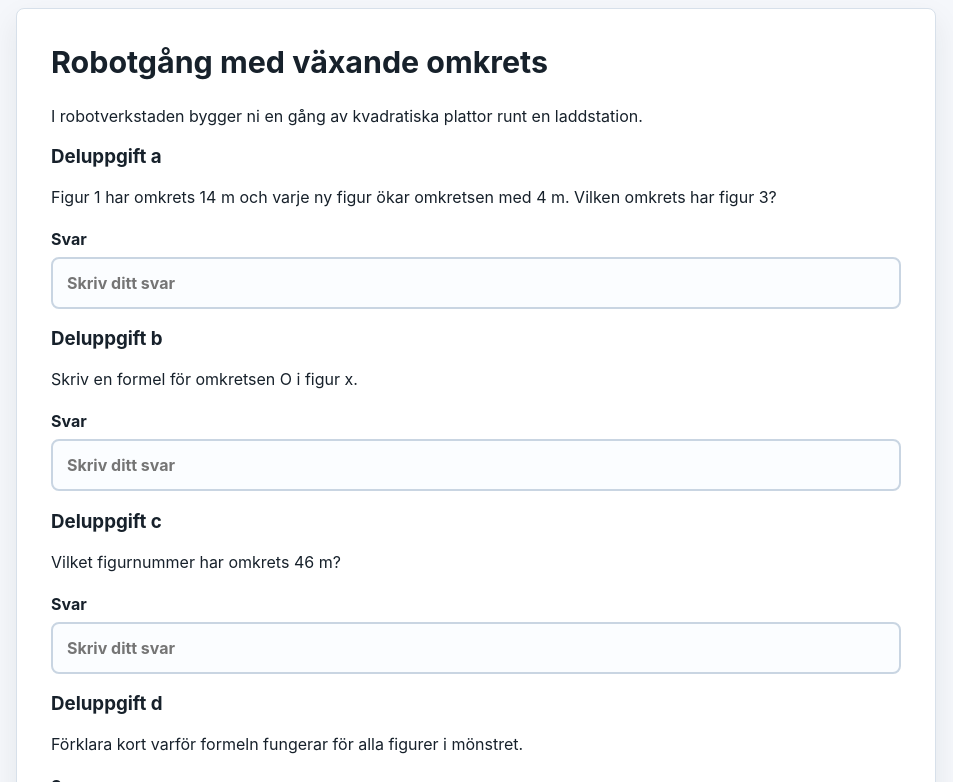
Scenario: real exam mode › lets user answer subquestions, submit, and view rubric/explanations
In the 1st field labelled "Svar": (476, 283) [51, 257, 901, 309], type "test-svar"
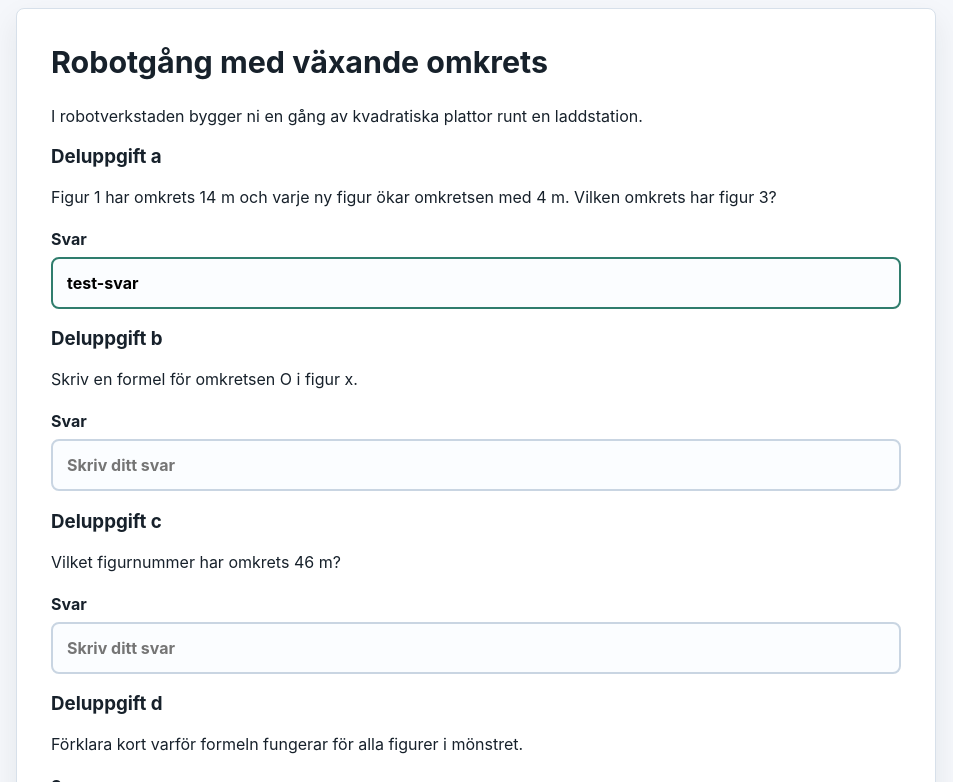
In the 2nd field labelled "Svar": (476, 465) [51, 439, 901, 491], type "test-svar"
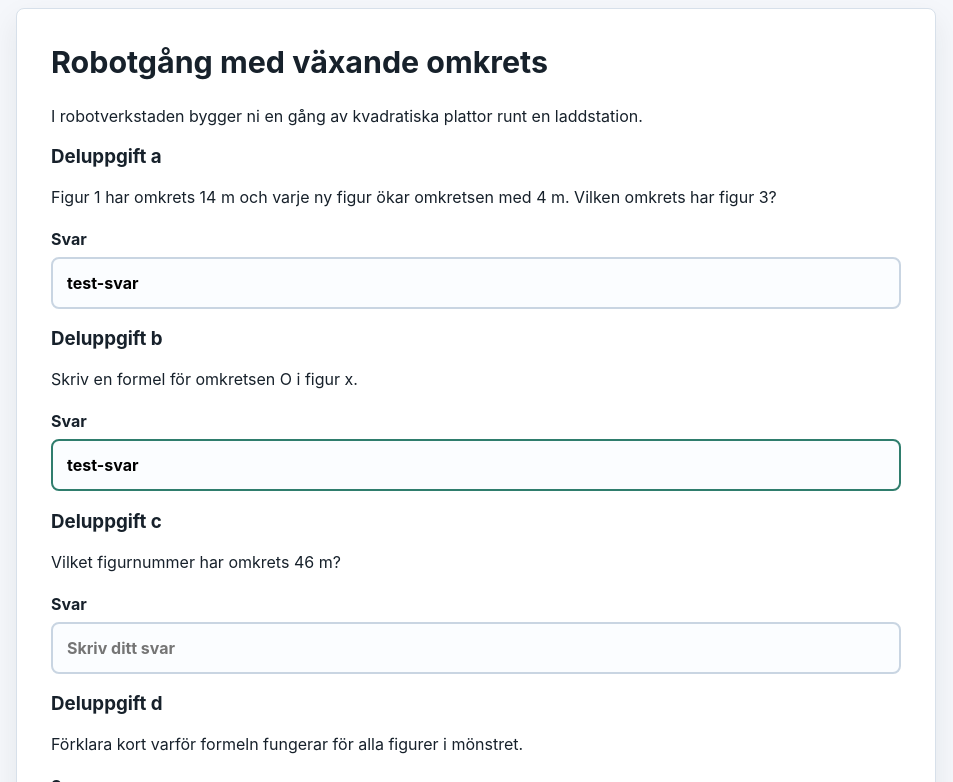
In the field labelled "Svar" below "Vilket figurnummer har omkrets 46 m?": (476, 648) [51, 622, 901, 674], type "test-svar"
(page scrolled)
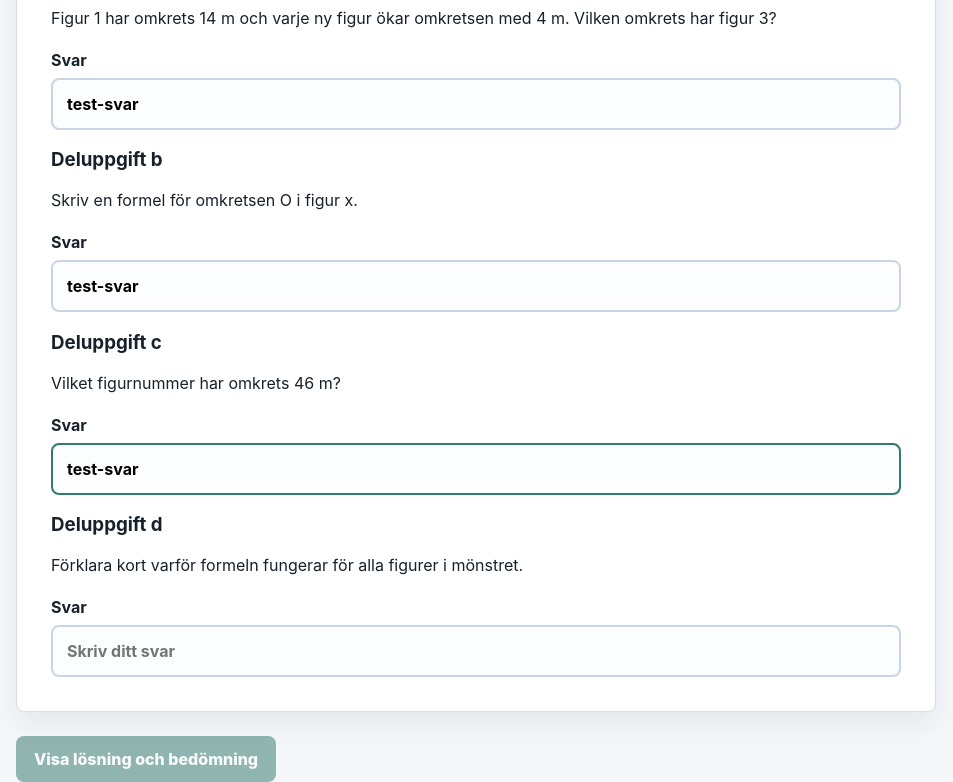
In the 4th field labelled "Svar": (476, 651) [51, 625, 901, 677], type "test-svar"
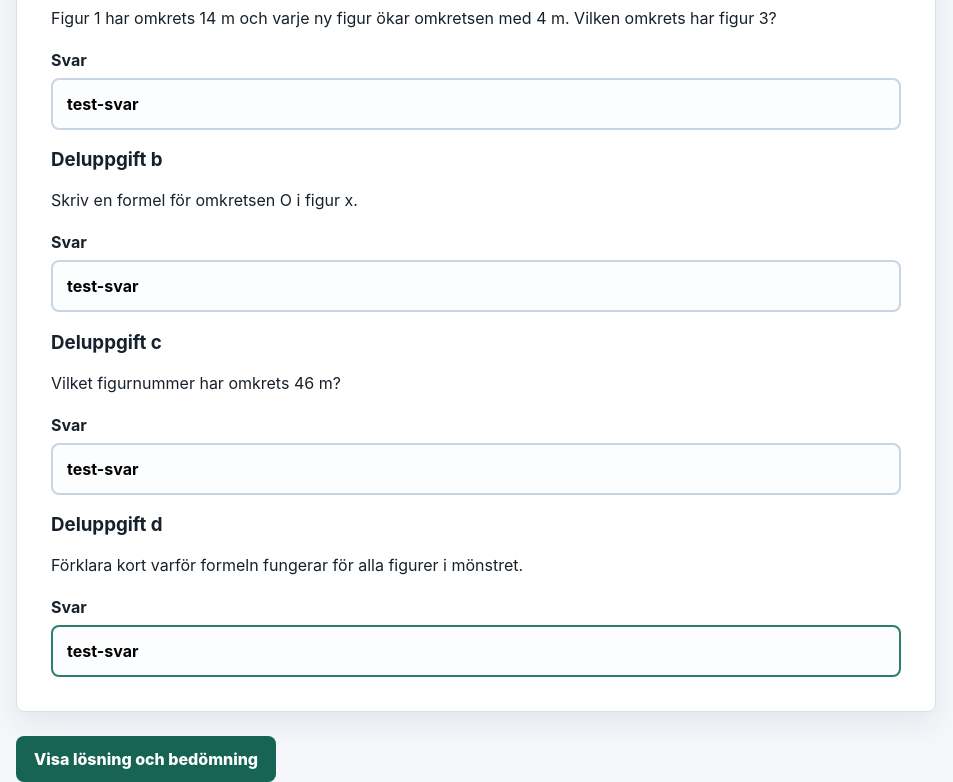
Click the button "Visa lösning och bedömning": (146, 759) [16, 736, 276, 781]
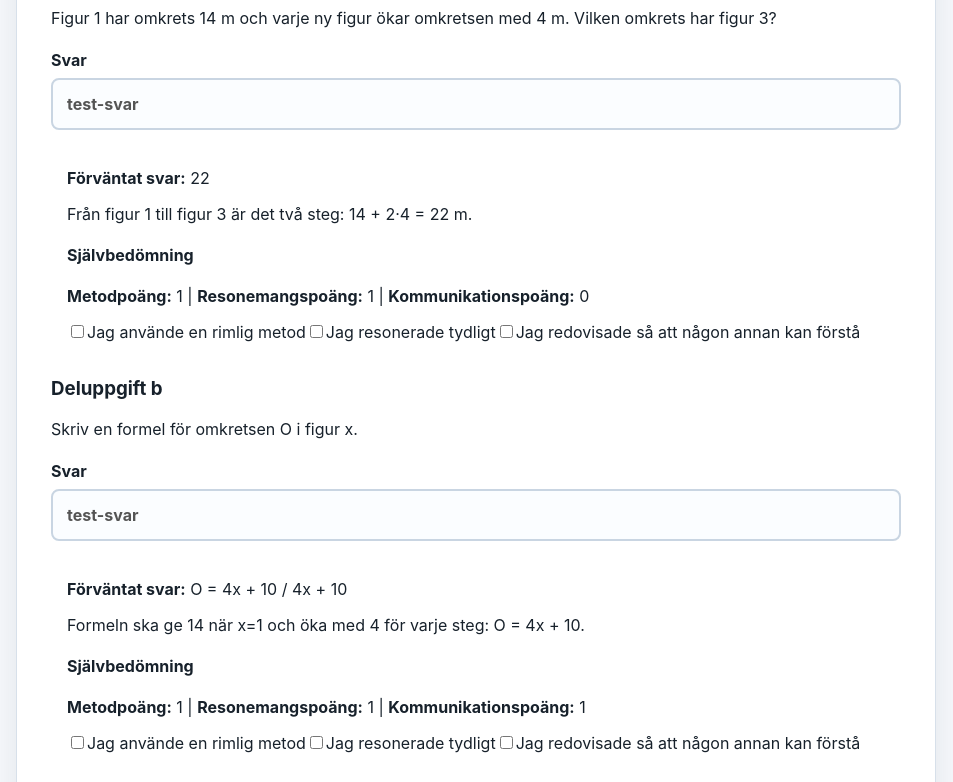
expect the 1st heading "Självbedömning" is shown: met, box [67, 245, 194, 265]
expect the 1st text "Metodpoäng:" is shown: met, box [67, 286, 172, 306]
expect the 1st text "Resonemangspoäng:" is shown: met, box [197, 286, 363, 306]
